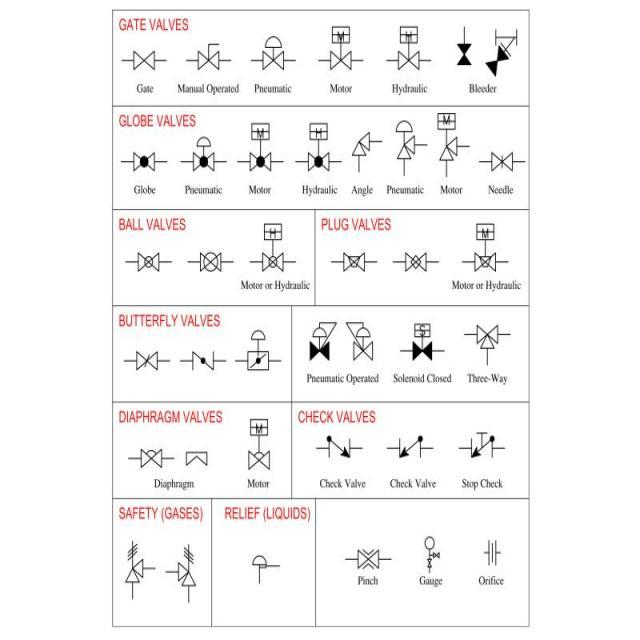3 Way Gate Valve: (468, 318, 501, 355)
Angle Valve: (352, 132, 379, 171)
BackPressure Regulator: (347, 316, 375, 363)
Ball Valve: (194, 237, 228, 280), (128, 242, 162, 276)
Bleeder Valve: (480, 16, 521, 84), (448, 24, 477, 75)
Butterfly Valve: (180, 341, 227, 380), (126, 340, 162, 372)
Check Valve: (314, 426, 356, 458), (386, 432, 433, 458)
Cock Valve: (190, 38, 230, 76)
Diaphragm Valve: (120, 434, 168, 470), (183, 446, 214, 468)
Gate Valve: (127, 44, 160, 76)
Gauge: (409, 530, 451, 582)
Globe Valve: (127, 141, 167, 182)
Hydraulic Operated Ball Valve: (252, 218, 294, 280)
Hydraulic Operated Gate Valve: (392, 22, 427, 77)
Hydraulic Operated Globe Valve: (296, 120, 336, 178)
Motor Operated Angle Valve: (436, 109, 464, 174)
Motor Operated Butterfly Valve: (241, 324, 275, 372)
Motor Operated Diaphragm Valve: (241, 411, 275, 481)
Motor Operated Gate Valve: (321, 20, 355, 73)
Motor Operated Globe Valve: (239, 114, 283, 178)
Motor Operated Plug Valve: (462, 215, 506, 272)
Needle Valve: (484, 144, 520, 174)
Orifice: (469, 522, 509, 568)
PRV: (228, 536, 292, 596)
PSV: (146, 528, 206, 602), (118, 536, 150, 592)
Pinch Valve: (329, 539, 396, 572)
Plug Valve: (392, 240, 434, 274), (332, 246, 369, 276)
Pneumatic-Diaphragm Angle Valve: (382, 118, 419, 170)
Pneumatic-Diaphragm Gate Valve: (256, 32, 290, 80)
Pneumatic-Diaphragm Globe Valve: (190, 132, 217, 176)
Pressure Regulator: (304, 310, 339, 366)
Solenoid Closed Valve: (402, 313, 443, 364)
Stop Valve: (452, 420, 508, 470)
